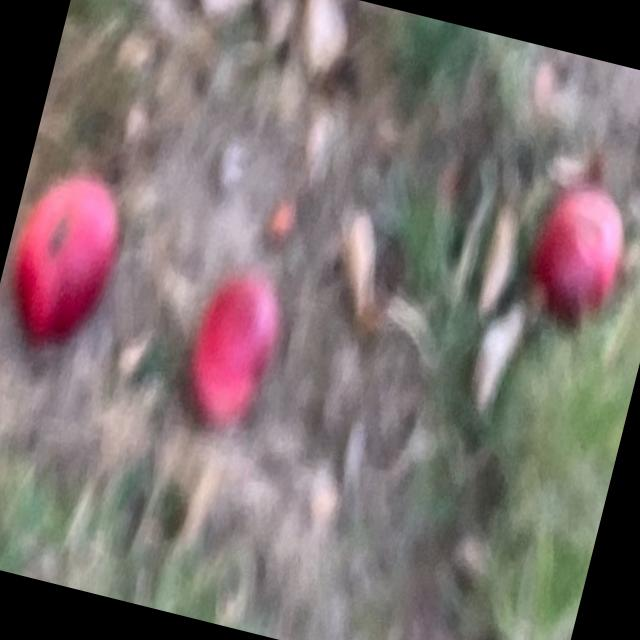Apples: (0, 168, 133, 350), (516, 178, 635, 336), (178, 268, 290, 431)
